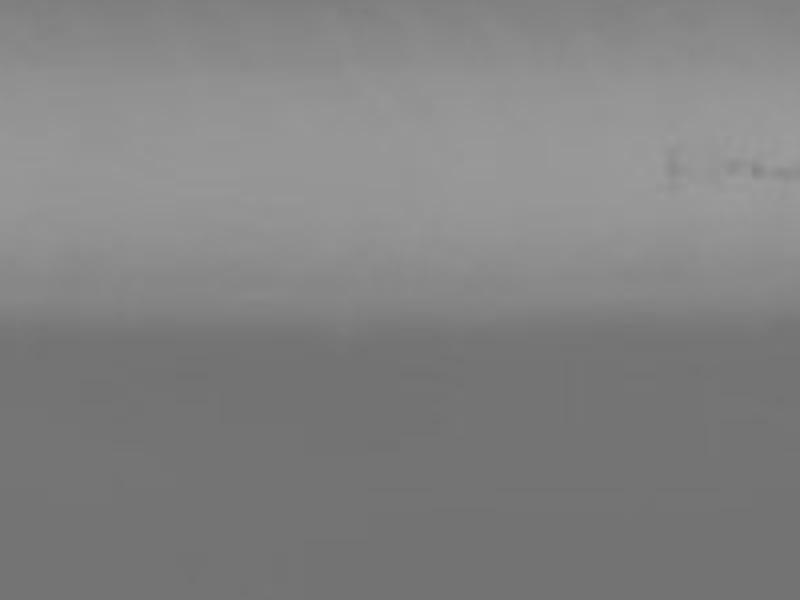defect: (772, 163, 791, 182), (752, 166, 765, 182)
